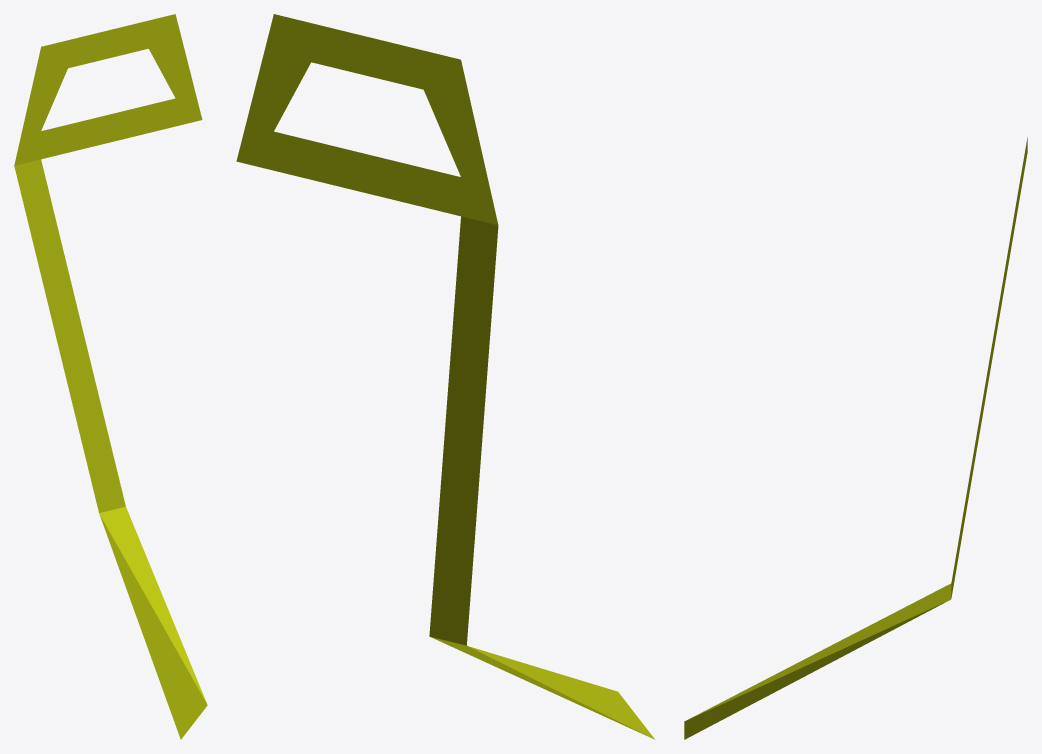
Rendered from npc_world_henryeta_carnillean_8.obj.
3 views of the same model, side by side, from view 1: azimuth 30°, elevation 25°; view 2: azimuth 150°, elevation 25°; view 3: azimuth 270°, elevation 25° (orthographic). The views are drawn at different scales.
Bounding box in the file's own units: 0.0547 × 0.1641 × 0.0703.
